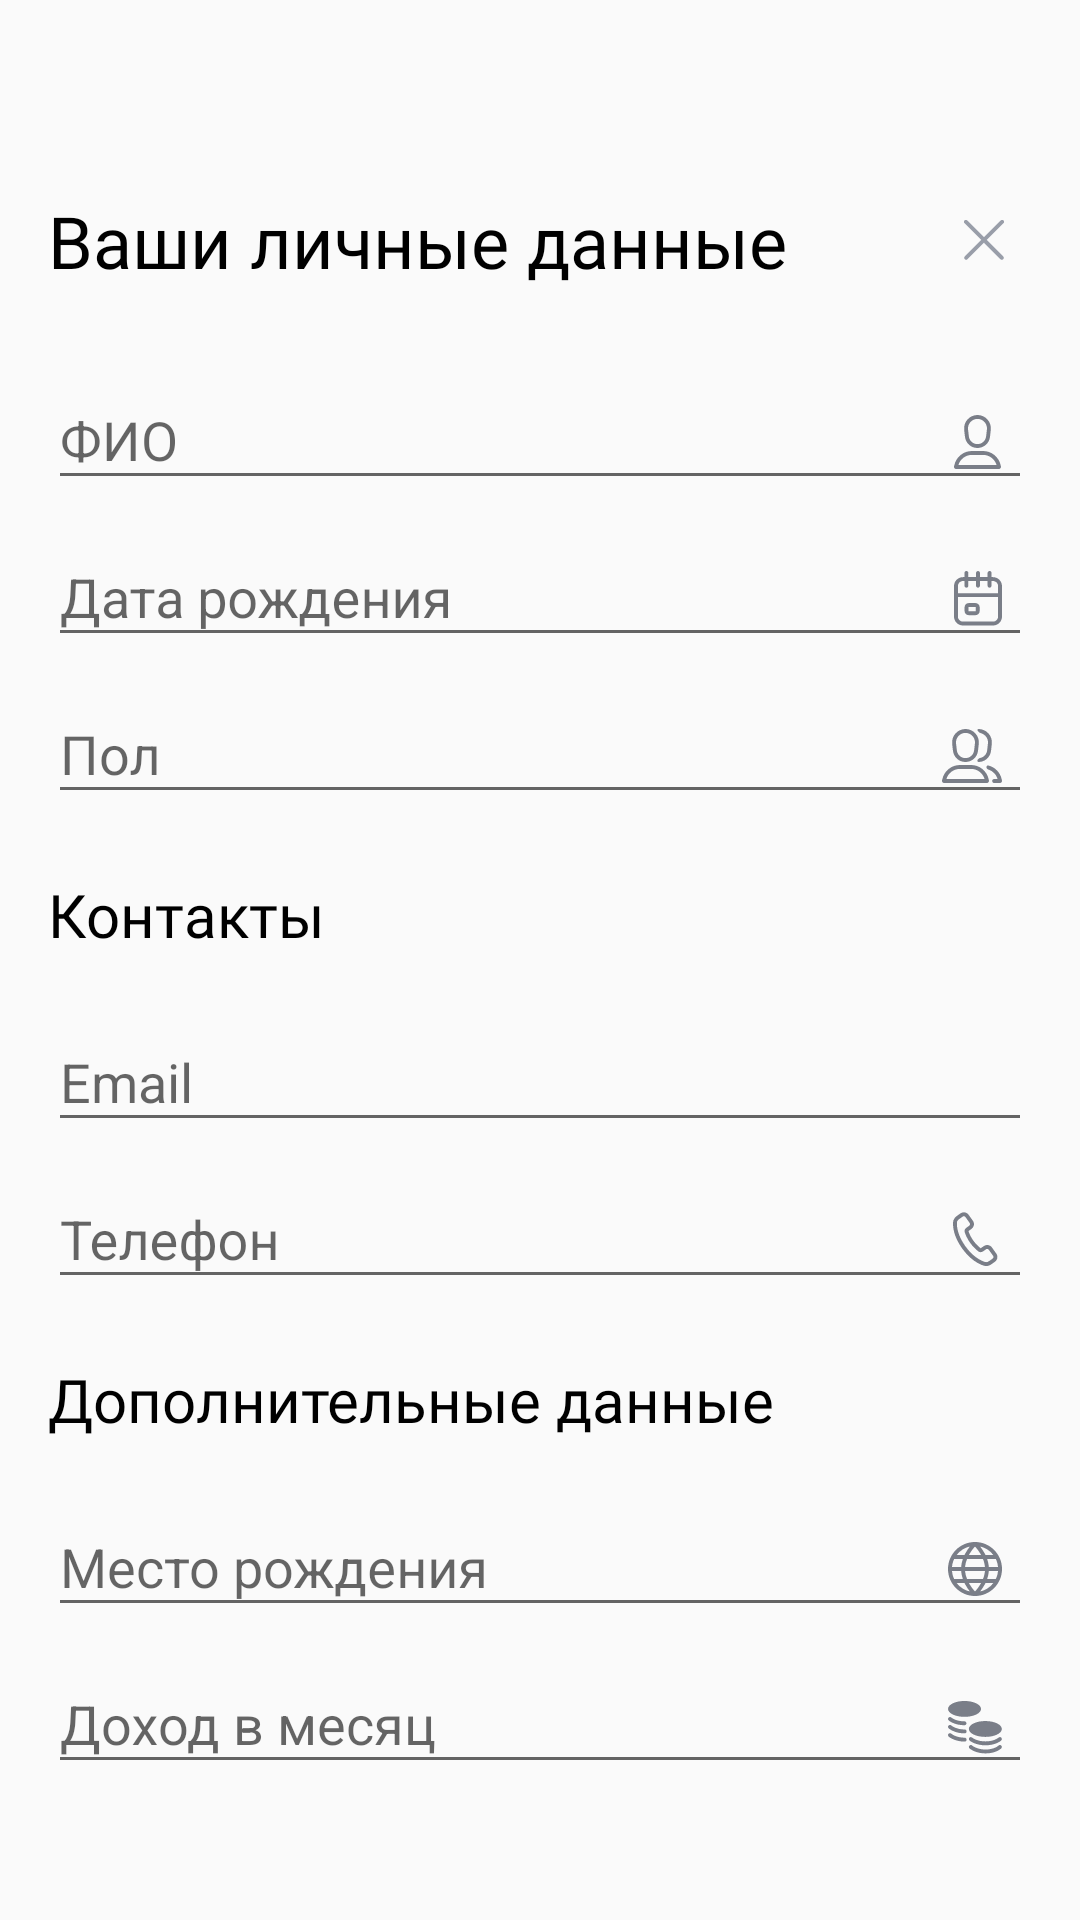

Locate icon controls on the screen. Image size 1080 x 1920, boxes as (x1, y1, x2, y2).
close: (964, 220, 1004, 260)
